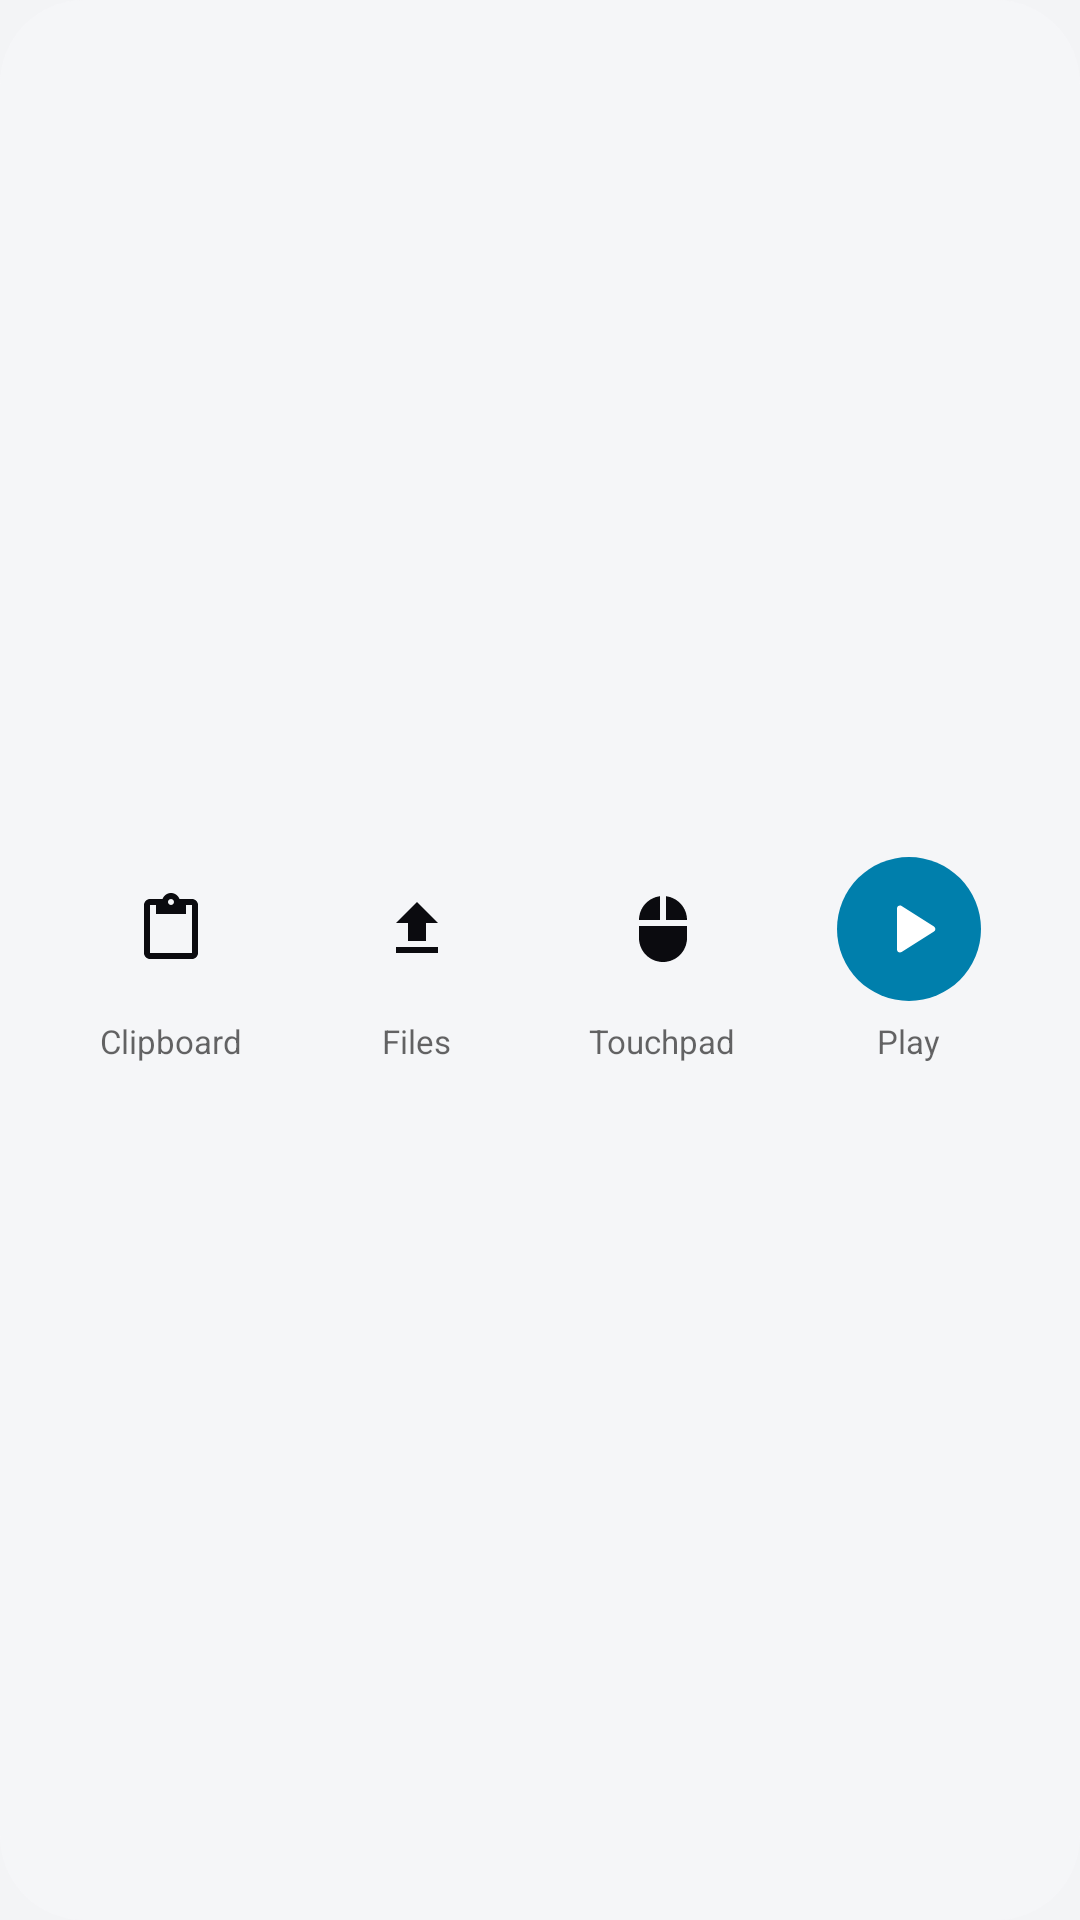

Icons on this 1080*1920 Android screen, each with its box as (x1, y1, x2, y2):
mouse: (639, 896, 687, 962)
upload: (396, 902, 438, 953)
